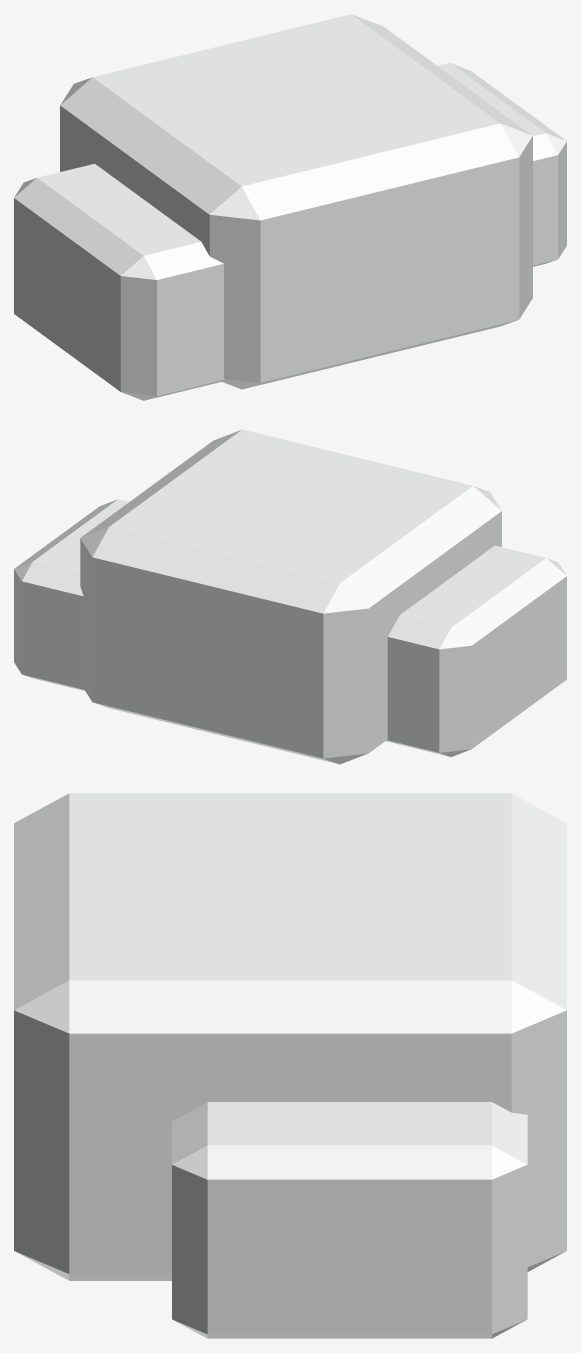
The model's file is SnowPile.fbx.
The picture shows the model from 3 angles, top to bottom: view 1: azimuth 30°, elevation 25°; view 2: azimuth 150°, elevation 25°; view 3: azimuth 270°, elevation 25°; orthographic projection. The views are drawn at different scales.
Visible parts, largest first — view 1: SnowPile; view 2: SnowPile; view 3: SnowPile.
Boxes of the visible parts, box(x1,y1,x2,y2) form: SnowPile: box(14, 14, 566, 400); SnowPile: box(14, 429, 566, 764); SnowPile: box(14, 793, 566, 1338).
Size of the model in its own units: 4.2 by 1.68 by 2.8.
Materials: 1 (1 with a texture image).
